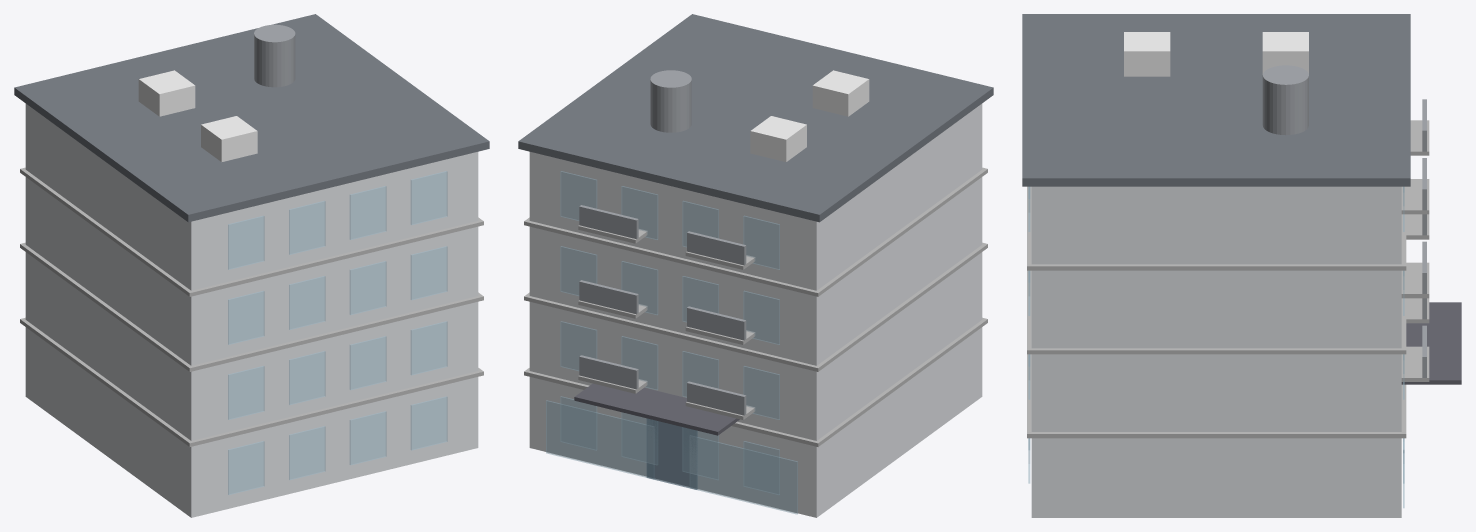
File: apartment_building.fbx
3 views of the same model, side by side, from view 1: azimuth 30°, elevation 25°; view 2: azimuth 150°, elevation 25°; view 3: azimuth 270°, elevation 25° (orthographic). The views are drawn at different scales.
Parts seen in each view (by area): view 1: MainTower, Roof, FloorSep_2, FloorSep_4, FloorSep_6, WaterTank, AC_2, AC_1, Win_B_2_3, Win_B_0_3, Win_B_1_2, Win_B_1_3 (+12 smaller); view 2: MainTower, Roof, ShopFront, ShopFront2, Canopy, FloorSep_4, FloorSep_6, EntranceDoor, WaterTank, FloorSep_2, AC_1, AC_2 (+22 smaller); view 3: MainTower, Roof, FloorSep_6, FloorSep_4, FloorSep_2, Canopy, WaterTank, AC_1, AC_2, Balcony_2_1, Balcony_1_1, Balcony_3_1 (+3 smaller).
Part boxes in pixels (x1,y1,x2,y2): MainTower: (25, 103, 478, 517); Roof: (14, 14, 489, 222); FloorSep_2: (20, 317, 483, 446); FloorSep_4: (20, 242, 483, 371); FloorSep_6: (20, 167, 483, 296); WaterTank: (254, 24, 295, 87); AC_2: (138, 70, 195, 116); AC_1: (201, 116, 257, 161); Win_B_2_3: (410, 246, 447, 300); Win_B_0_3: (410, 396, 447, 450); Win_B_1_2: (349, 336, 386, 389); Win_B_1_3: (410, 321, 447, 375); MainTower: (529, 103, 982, 517); Roof: (518, 14, 993, 222); ShopFront: (690, 436, 797, 514); ShopFront2: (546, 400, 654, 479); Canopy: (574, 383, 739, 435); FloorSep_4: (524, 242, 987, 371); FloorSep_6: (524, 167, 987, 296); EntranceDoor: (646, 418, 697, 489); WaterTank: (650, 70, 691, 132); FloorSep_2: (524, 317, 987, 446); AC_1: (812, 70, 869, 116); AC_2: (750, 116, 806, 161); MainTower: (1031, 186, 1401, 517); Roof: (1022, 14, 1410, 186); FloorSep_6: (1027, 186, 1406, 270); FloorSep_4: (1027, 270, 1406, 354); FloorSep_2: (1027, 354, 1406, 438); Canopy: (1401, 302, 1461, 384); WaterTank: (1262, 65, 1308, 135); AC_1: (1124, 32, 1170, 76); AC_2: (1262, 32, 1308, 74); Balcony_2_1: (1401, 262, 1429, 298); Balcony_1_1: (1401, 346, 1429, 381); Balcony_3_1: (1401, 179, 1429, 214).
Size of the model in its own units: 8.4 by 9.4 by 9.5.
